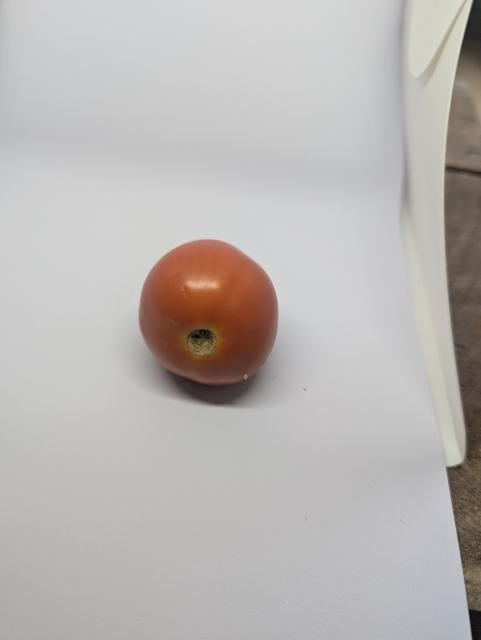red: (121, 225, 287, 397)
